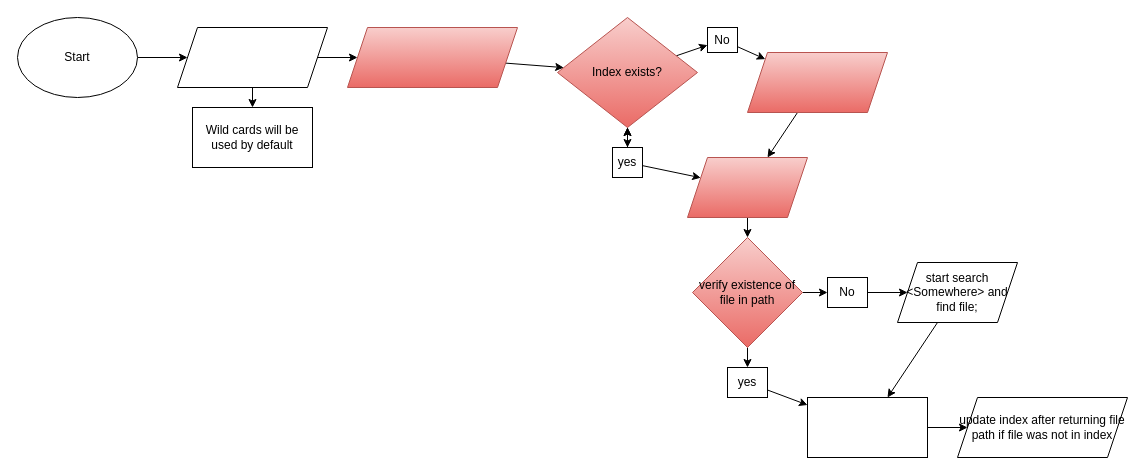
Image size: 1145x475. Some labels were removed from this diagram. Each missing label, with the box of its shape:
check for existence of index: (346, 26, 518, 88)
creat index starting at local drive: (746, 52, 888, 112)
Findexer "File Name": (176, 26, 328, 88)
return file path(s) which include file extensions: (806, 396, 928, 458)
Search index, grab path file is in: (686, 156, 808, 218)
